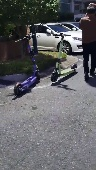beam: (12, 29, 41, 95)
gcooter: (49, 31, 77, 85)
